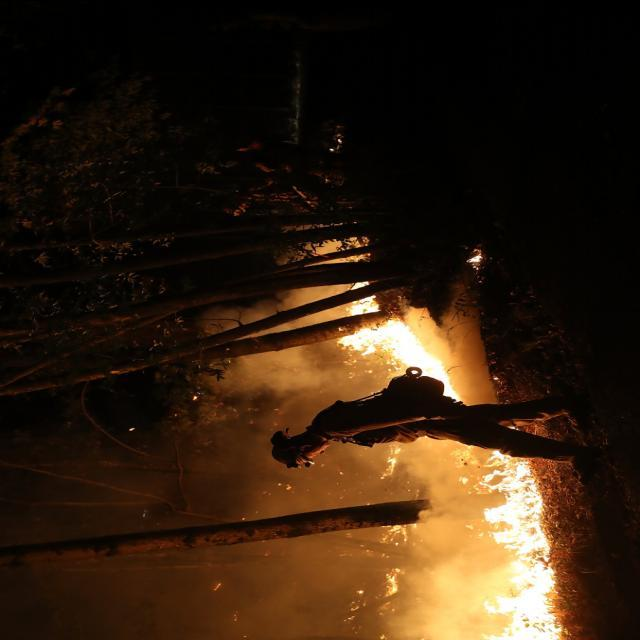Fire: (335, 263, 561, 636)
